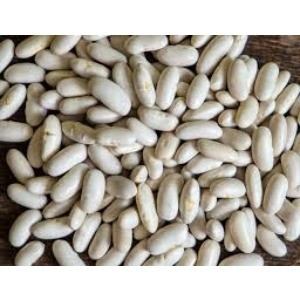beans_brain food: (69, 91, 206, 213)
